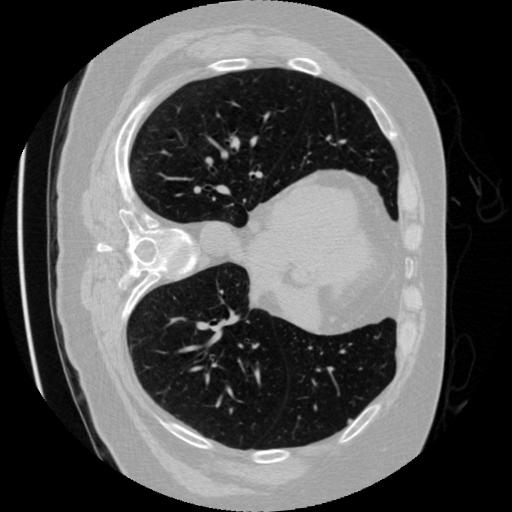nodule: (346, 418, 357, 429)
